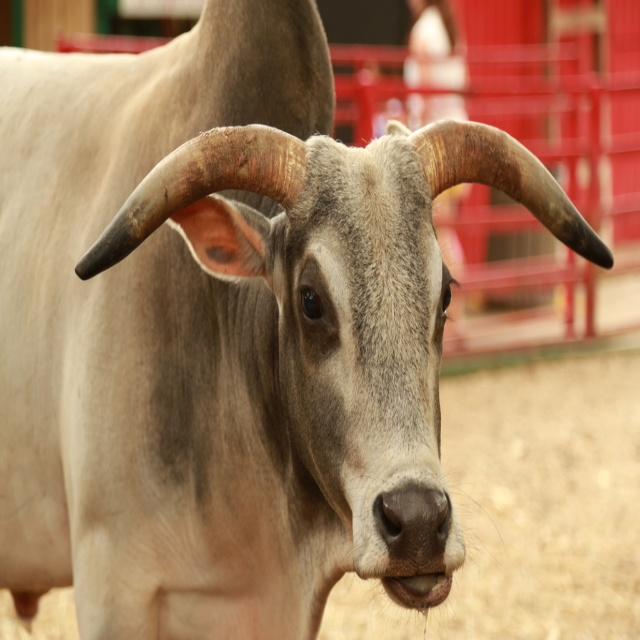Cattle: (0, 87, 612, 640)
